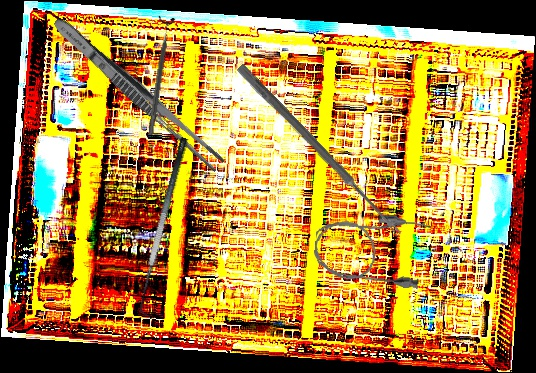Cannula: (311, 207, 432, 290)
Dressing Forceps: (48, 13, 228, 174)
Fixation Ring: (141, 15, 176, 137)
Spatula Surgical: (129, 136, 204, 320)
Surgical Spoon: (235, 63, 404, 238)
